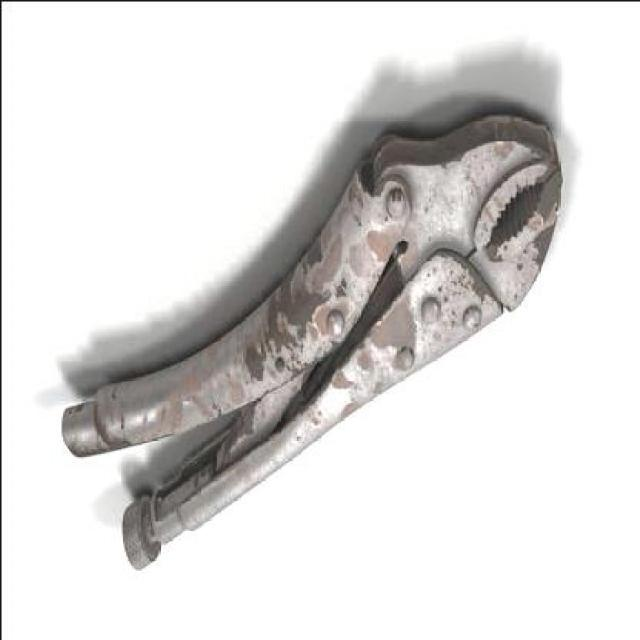pliers: (53, 107, 559, 582)
